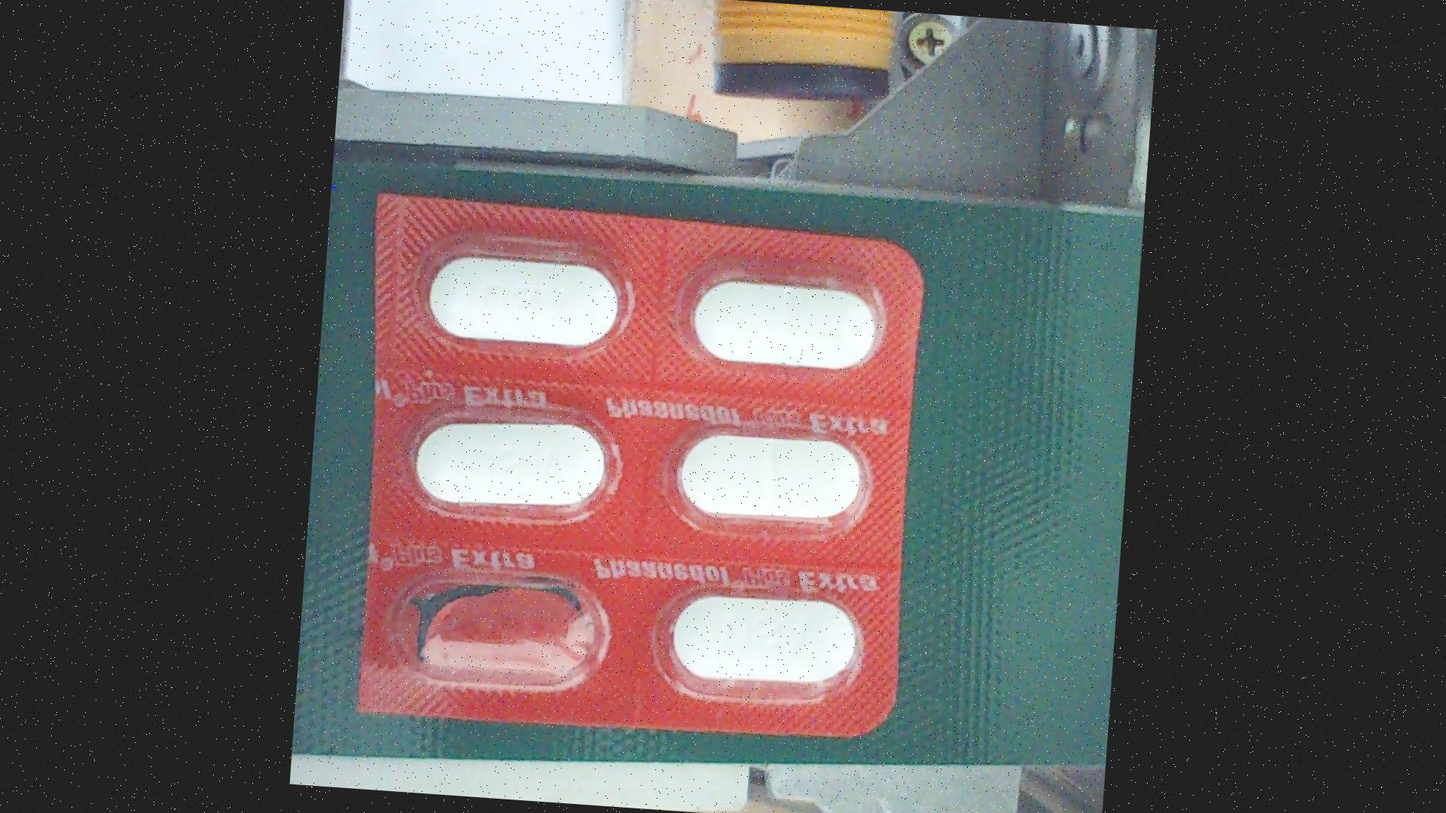Empty: (385, 568, 618, 697)
Full: (419, 243, 629, 359), (404, 408, 614, 524), (662, 584, 873, 699), (662, 423, 872, 538), (679, 269, 889, 384)
